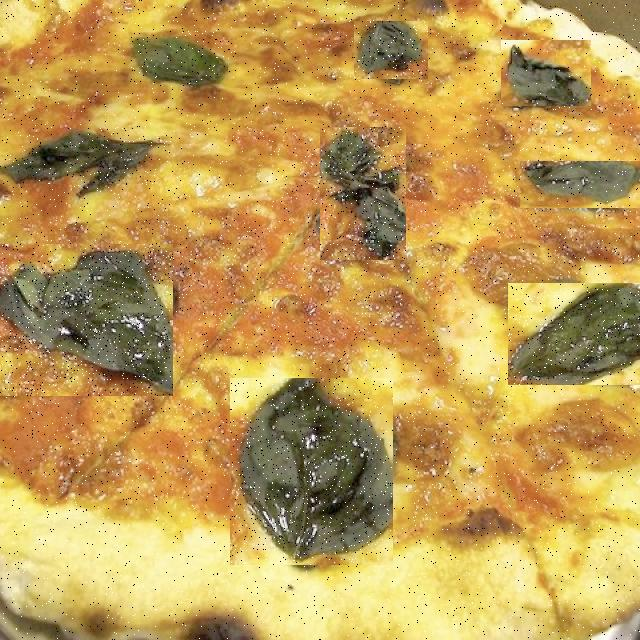Basil: (230, 378, 393, 565), (0, 244, 173, 396), (508, 283, 640, 385), (321, 127, 406, 260), (5, 128, 154, 195), (501, 40, 591, 106), (520, 161, 640, 208), (130, 30, 228, 86), (354, 21, 428, 79)
